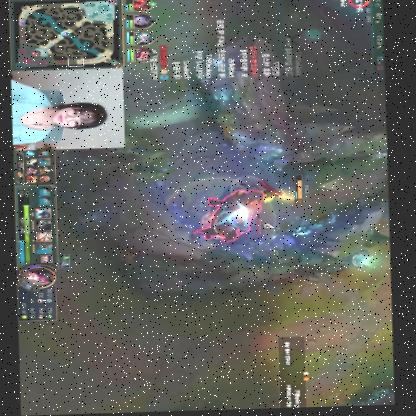streamer: (10, 77, 107, 145)
